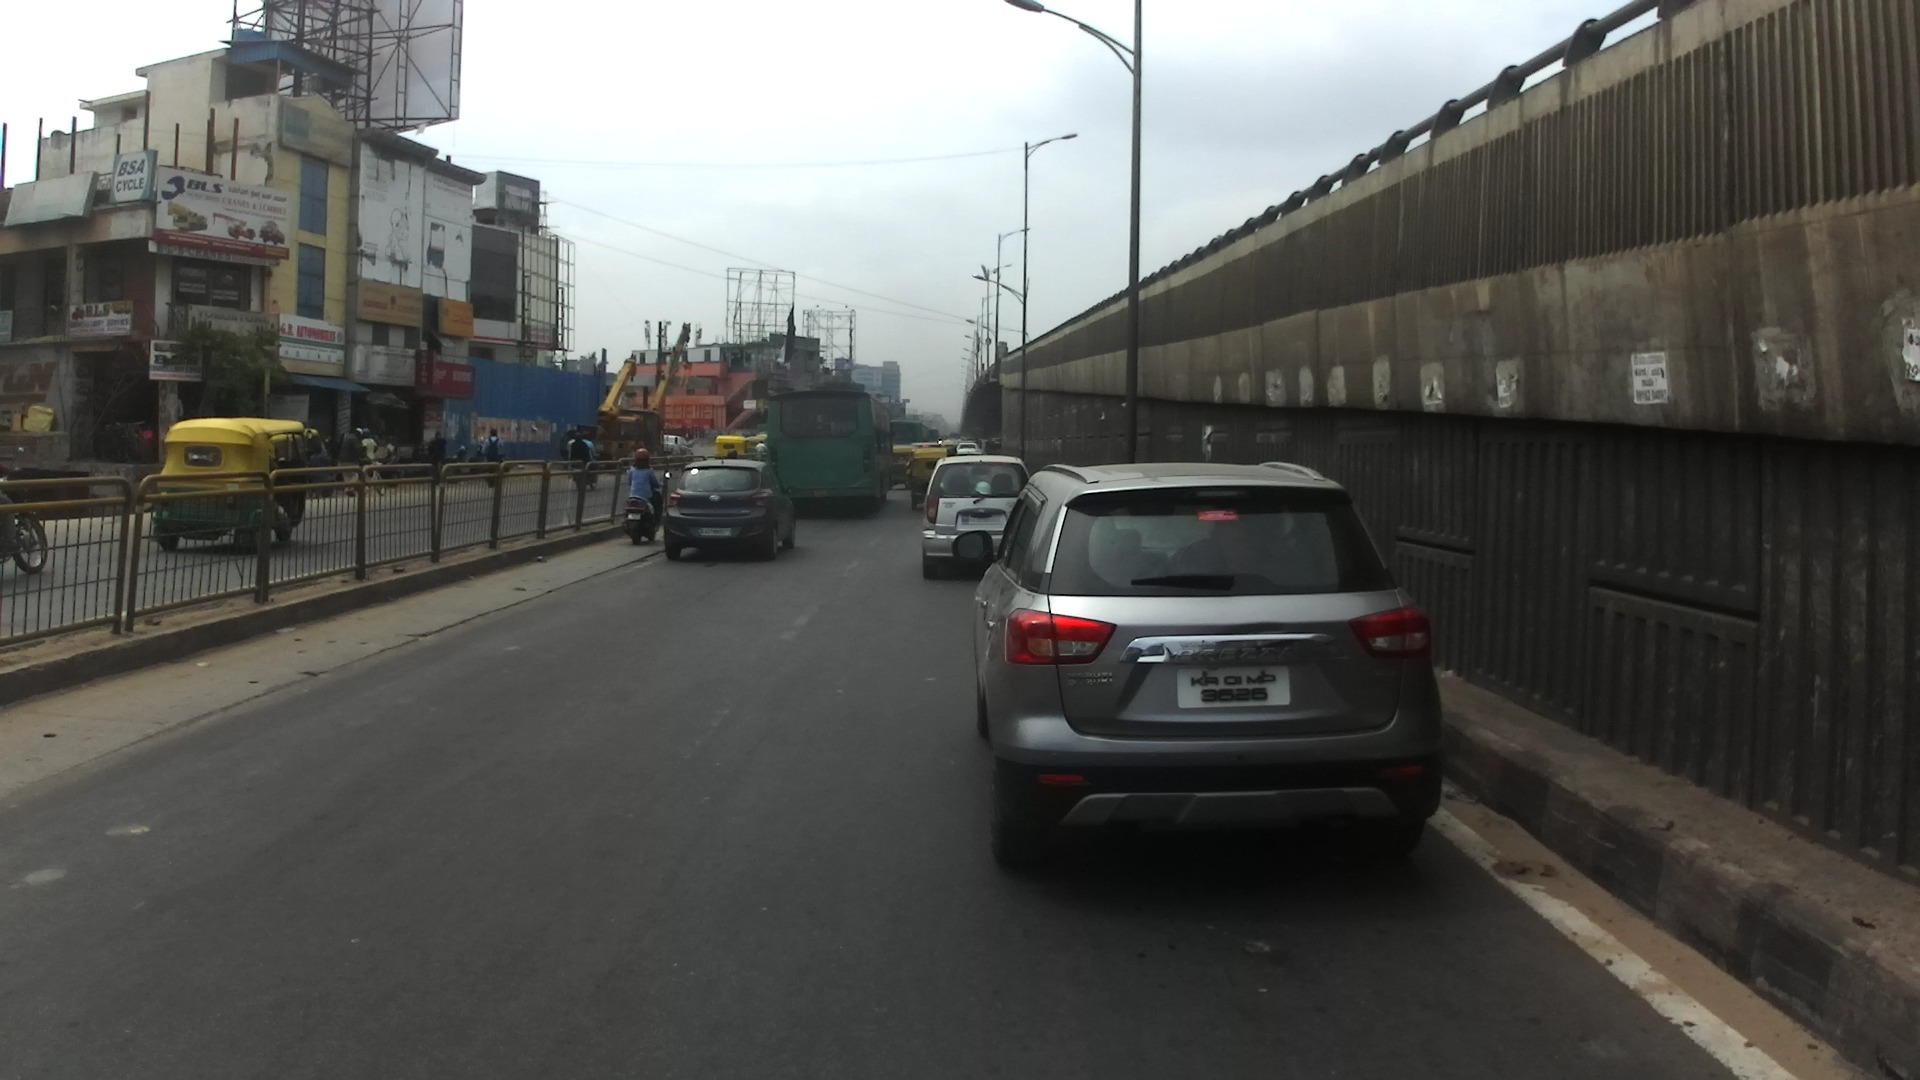autorickshaw: (148, 415, 315, 550), (909, 446, 954, 514), (889, 443, 919, 492), (714, 436, 748, 461), (940, 440, 965, 461), (744, 436, 766, 453)
bicycle: (342, 454, 386, 495)
bus: (764, 382, 898, 513), (891, 420, 940, 456)
car: (973, 462, 1443, 869), (661, 459, 800, 563), (921, 453, 1031, 581), (663, 435, 691, 458), (956, 441, 979, 458), (916, 440, 944, 450)
motorcycle: (1, 448, 49, 574), (622, 469, 675, 545), (359, 441, 404, 483), (448, 443, 493, 478), (569, 451, 601, 496), (469, 445, 521, 472)
person: (342, 428, 368, 498), (482, 425, 505, 485), (359, 429, 378, 483), (427, 429, 448, 479), (670, 437, 684, 472)
rider: (626, 447, 664, 534), (568, 432, 594, 487), (1, 484, 16, 555), (572, 430, 595, 474), (755, 435, 765, 453)
vehicle fallback: (590, 322, 699, 463), (272, 429, 333, 501), (556, 422, 605, 462), (977, 436, 1003, 457), (944, 429, 960, 440)
